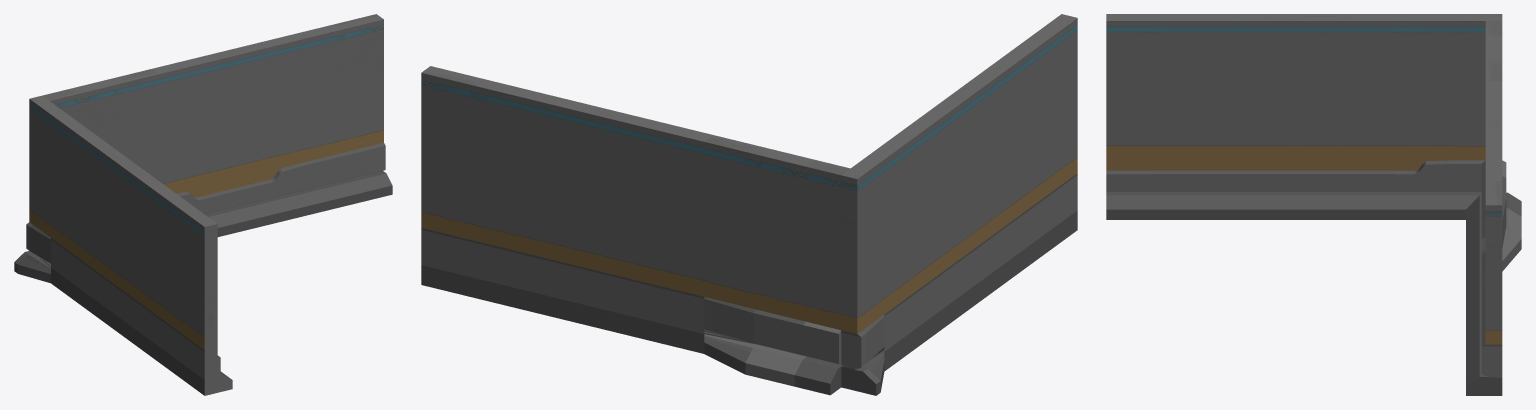
The model's file is Wall_Room_02_Hospital.fbx.
3 renders of one model, left to right at view 1: azimuth 30°, elevation 25°; view 2: azimuth 150°, elevation 25°; view 3: azimuth 270°, elevation 25°, orthographic. The views are drawn at different scales.
Parts seen in each view (by area): view 1: polySurface72; view 2: polySurface72; view 3: polySurface72.
Part boxes in pixels (x1=…): polySurface72: x1=14, y1=14, x2=392, y2=395; polySurface72: x1=421, y1=14, x2=1077, y2=395; polySurface72: x1=1106, y1=14, x2=1521, y2=395.
Bounding box in the file's own units: 560 × 250 × 493.
